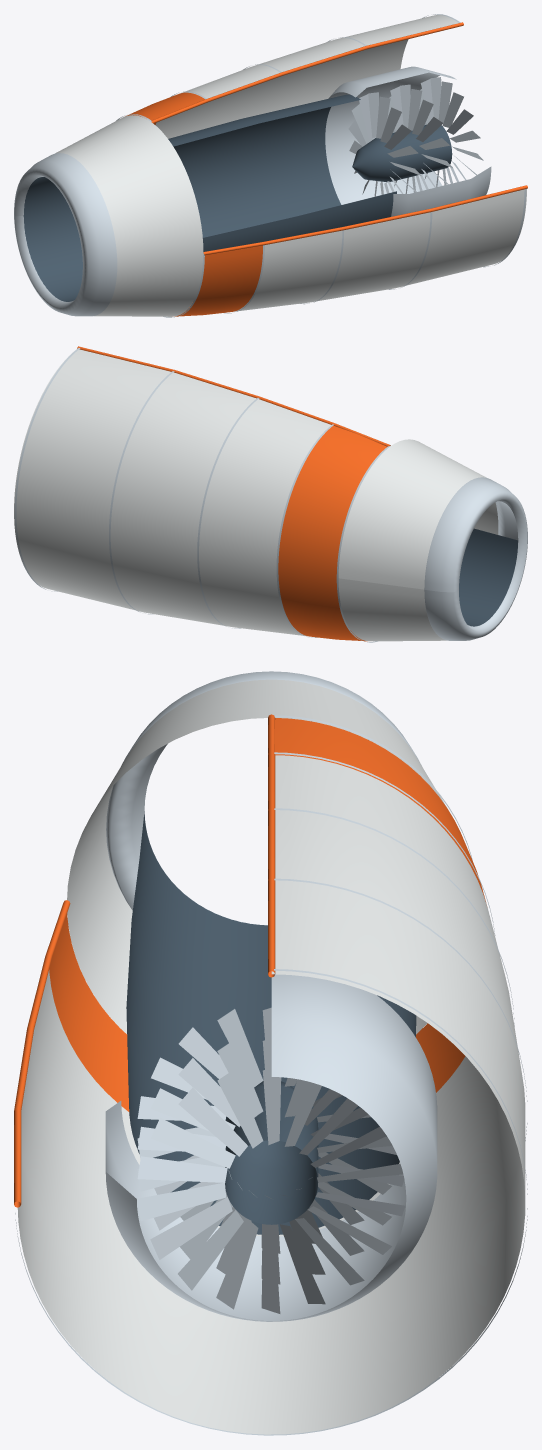
Rendered from model1_t1b_intake.glb.
3 renders of one model, top to bottom at view 1: azimuth 30°, elevation 25°; view 2: azimuth 150°, elevation 25°; view 3: azimuth 270°, elevation 25°, orthographic. The views are drawn at different scales.
Parts seen in each view (by area): view 1: Cutaway forward fuselage, Open intake duct, Forward ivory nose, Open rounded nose lip, J3 engine schematic casing, Orange trainer nose band, Compressor hub, Schematic compressor blades, Schematic compressor blades.001, Schematic compressor blades.002, Cutaway edge, Cutaway edge.001; view 2: Cutaway forward fuselage, Forward ivory nose, Orange trainer nose band, Open rounded nose lip, Open intake duct, Cutaway edge.001, Panel seam.004, Panel seam.003, Panel seam.002, Panel seam.001, Panel seam; view 3: Cutaway forward fuselage, J3 engine schematic casing, Open intake duct, Schematic compressor blades.002, Forward ivory nose, Orange trainer nose band, Schematic compressor blades.001, Compressor hub, Schematic compressor blades, Open rounded nose lip, Cutaway edge, Cutaway edge.001 (+1 smaller).
Boxes of the visible parts, box(x1,y1,x2,y2) form: Cutaway forward fuselage: box(155, 15, 526, 311); Open intake duct: box(23, 94, 396, 301); Forward ivory nose: box(55, 115, 203, 316); Open rounded nose lip: box(14, 153, 117, 316); J3 engine schematic casing: box(325, 66, 491, 216); Orange trainer nose band: box(125, 92, 262, 316); Compressor hub: box(352, 124, 452, 182); Schematic compressor blades: box(348, 92, 421, 196); Schematic compressor blades.001: box(387, 84, 452, 193); Schematic compressor blades.002: box(419, 77, 483, 187); Cutaway edge: box(203, 185, 527, 255); Cutaway edge.001: box(151, 22, 463, 123); Cutaway forward fuselage: box(14, 349, 331, 636); Forward ivory nose: box(338, 439, 498, 641); Orange trainer nose band: box(278, 425, 386, 641); Open rounded nose lip: box(424, 477, 527, 640); Open intake duct: box(459, 528, 518, 626); Cutaway edge.001: box(77, 346, 390, 446); Panel seam.004: box(14, 348, 80, 591); Panel seam.003: box(109, 371, 174, 614); Panel seam.002: box(197, 398, 259, 628); Panel seam.001: box(276, 424, 333, 637); Panel seam: box(336, 446, 390, 642); Cutaway forward fuselage: box(17, 755, 525, 1434); J3 engine schematic casing: box(105, 974, 437, 1321); Open intake duct: box(126, 721, 416, 1234); Schematic compressor blades.002: box(137, 1068, 405, 1313); Forward ivory nose: box(67, 679, 451, 1034); Orange trainer nose band: box(49, 718, 486, 1111); Schematic compressor blades.001: box(137, 1038, 404, 1284); Compressor hub: box(225, 1081, 318, 1224); Schematic compressor blades: box(137, 1007, 396, 1253); Open rounded nose lip: box(106, 671, 421, 925); Cutaway edge: box(14, 900, 70, 1207); Cutaway edge.001: box(268, 714, 275, 977).
Size of the model in its own units: 3.66 by 1.98 by 1.98.
